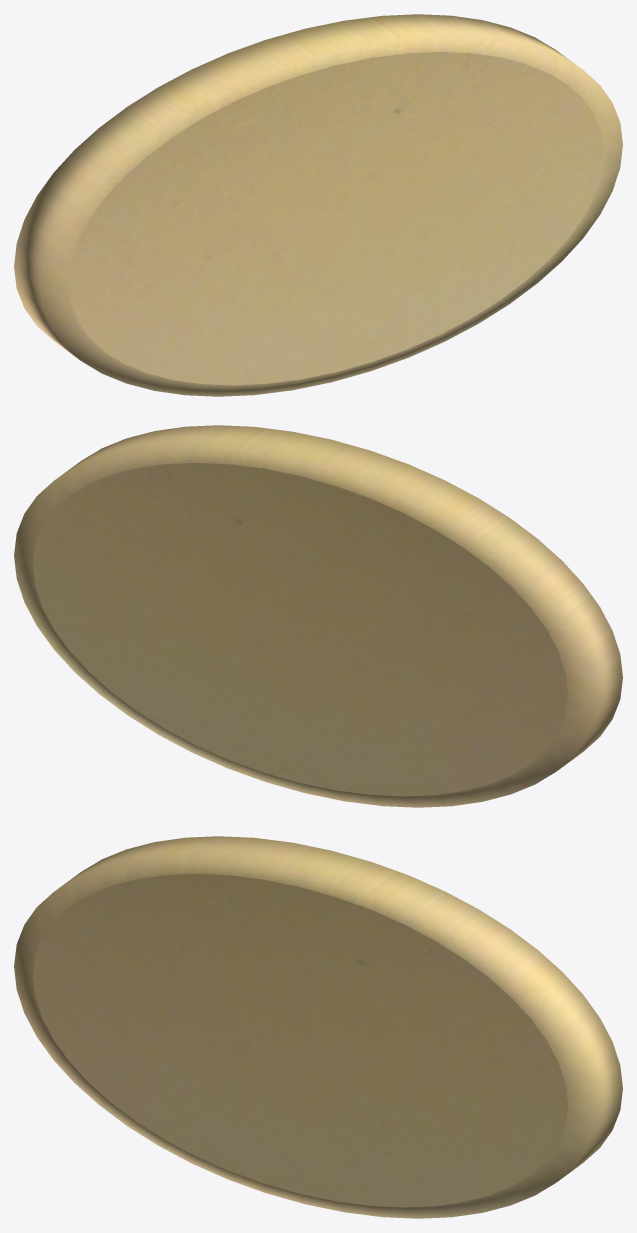
File: 20180112GOPHDRGPT17262.fbx
3 views of the same model, one above another, from view 1: azimuth 30°, elevation 25°; view 2: azimuth 150°, elevation 25°; view 3: azimuth 330°, elevation 25° (orthographic).
Parts seen in each view (by area): view 1: BezierCircle; view 2: BezierCircle; view 3: BezierCircle.
Part boxes in pixels (x1,y1,x2,y2): BezierCircle: [14, 14, 622, 396]; BezierCircle: [14, 425, 622, 807]; BezierCircle: [14, 836, 622, 1218].
Bounding box in the file's own units: 1.46 × 0.7987 × 0.1559.
1 material, 1 textured.
